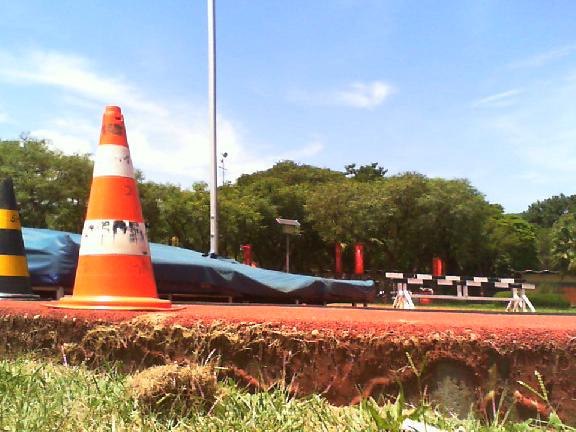0 cone: (42, 104, 188, 314), (0, 180, 41, 298)
